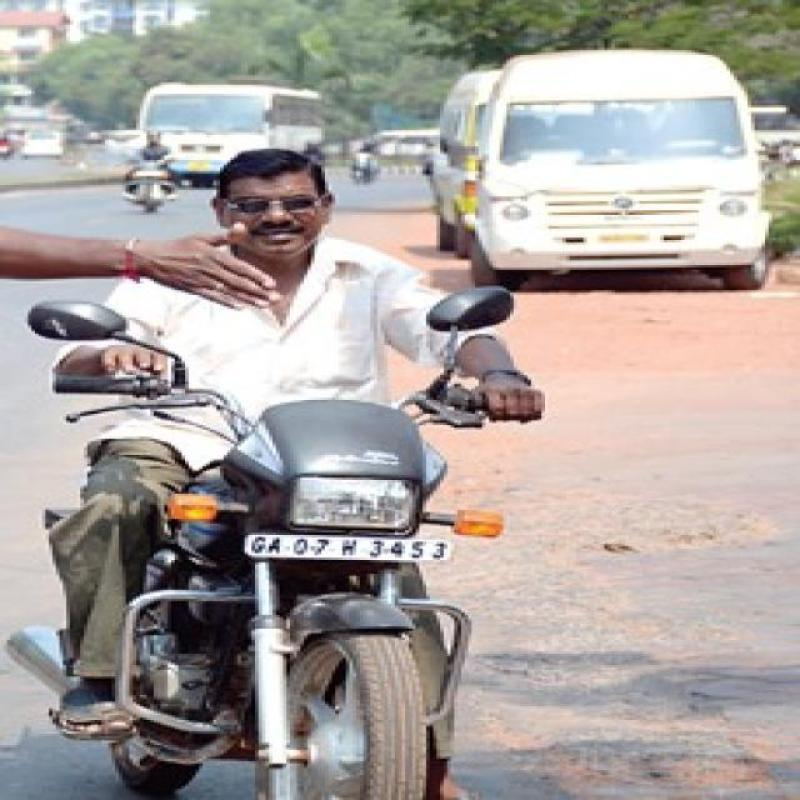nohelmet: (196, 142, 355, 268)
